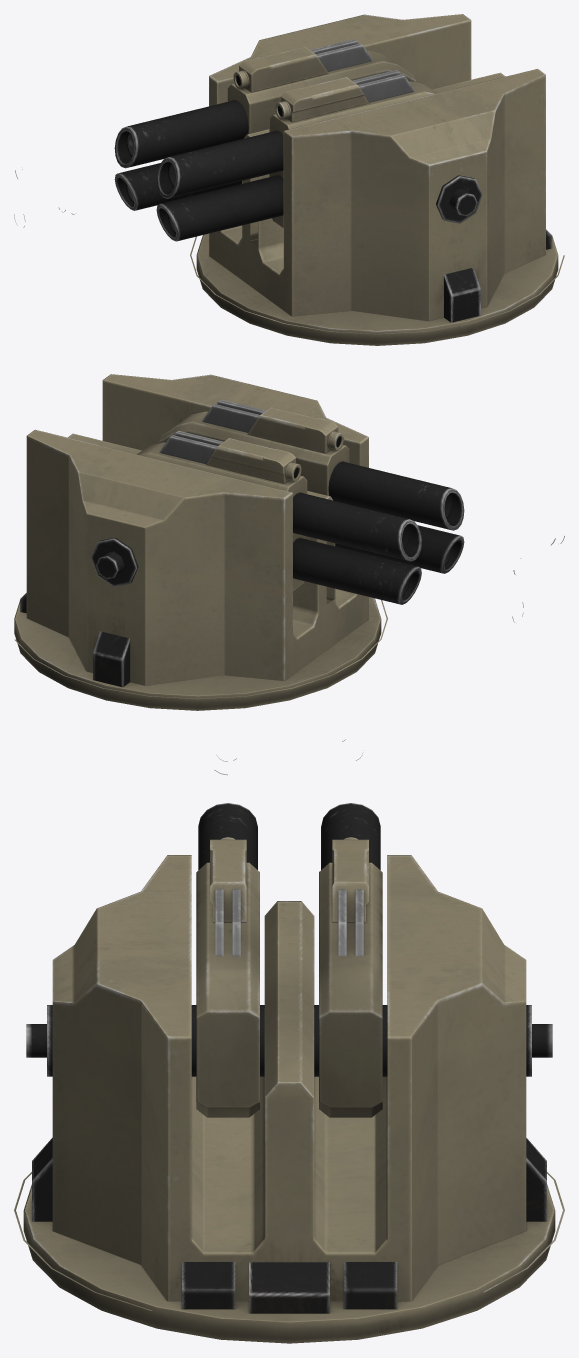
The model's file is TurrellTop.fbx.
The picture shows the model from 3 angles, top to bottom: view 1: azimuth 30°, elevation 25°; view 2: azimuth 150°, elevation 25°; view 3: azimuth 270°, elevation 25°; orthographic projection. The views are drawn at different scales.
Visible parts, largest first — view 1: Sci_Fi_AA_Turret_; view 2: Sci_Fi_AA_Turret_; view 3: Sci_Fi_AA_Turret_.
Part boxes in pixels (<box>): Sci_Fi_AA_Turret_: <box>14,14,564,345</box>; Sci_Fi_AA_Turret_: <box>14,374,564,710</box>; Sci_Fi_AA_Turret_: <box>14,739,564,1343</box>.
Size of the model in its own units: 299 by 124 by 196.
